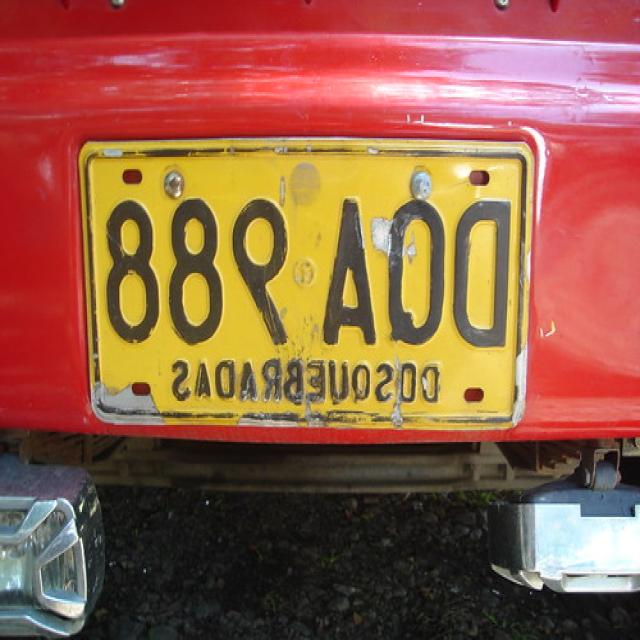placas: (93, 192, 517, 359)
